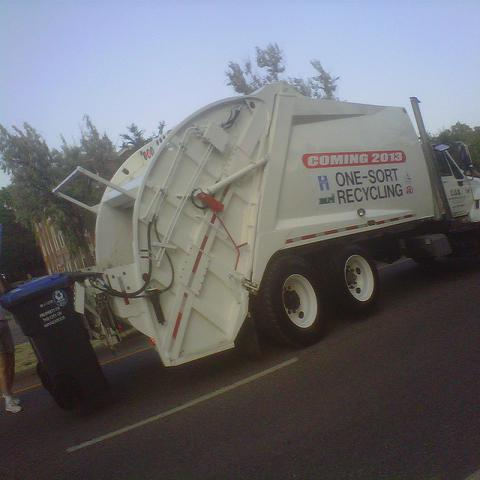truck: (0, 82, 478, 409)
